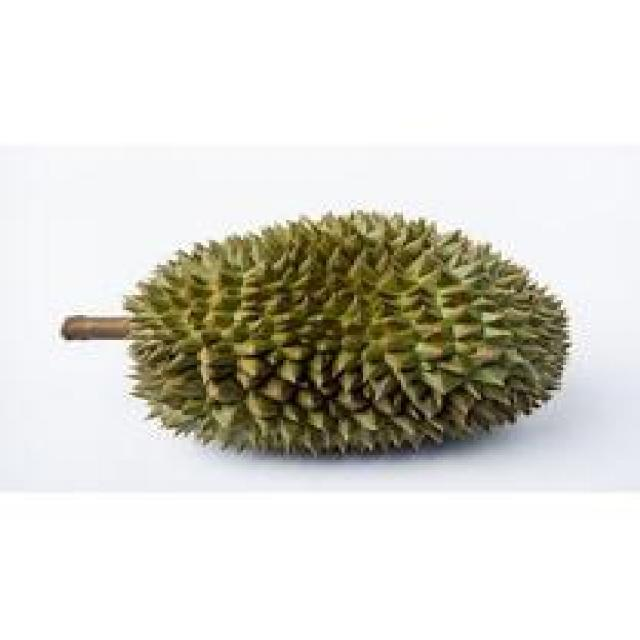fruit: (92, 172, 468, 510)
